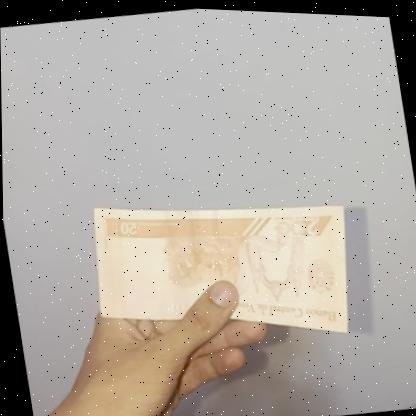twenty-back-vef: (82, 169, 362, 365)
